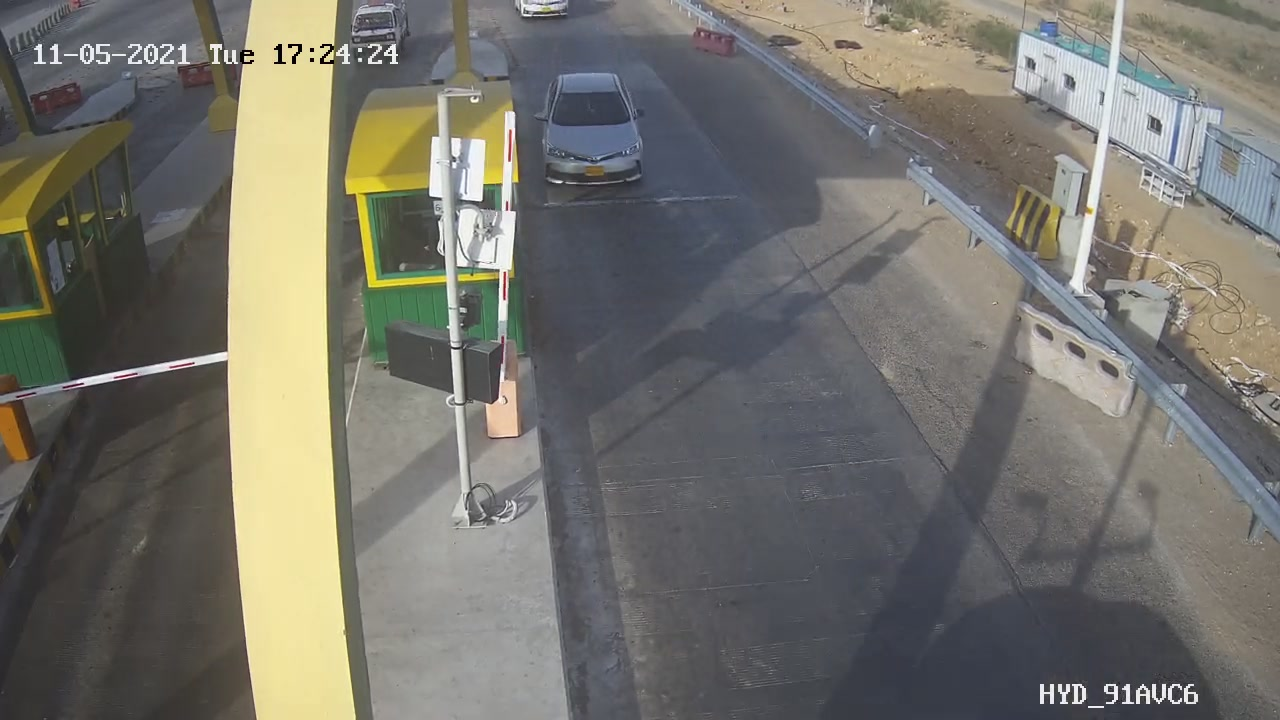F1: (518, 55, 670, 212)
